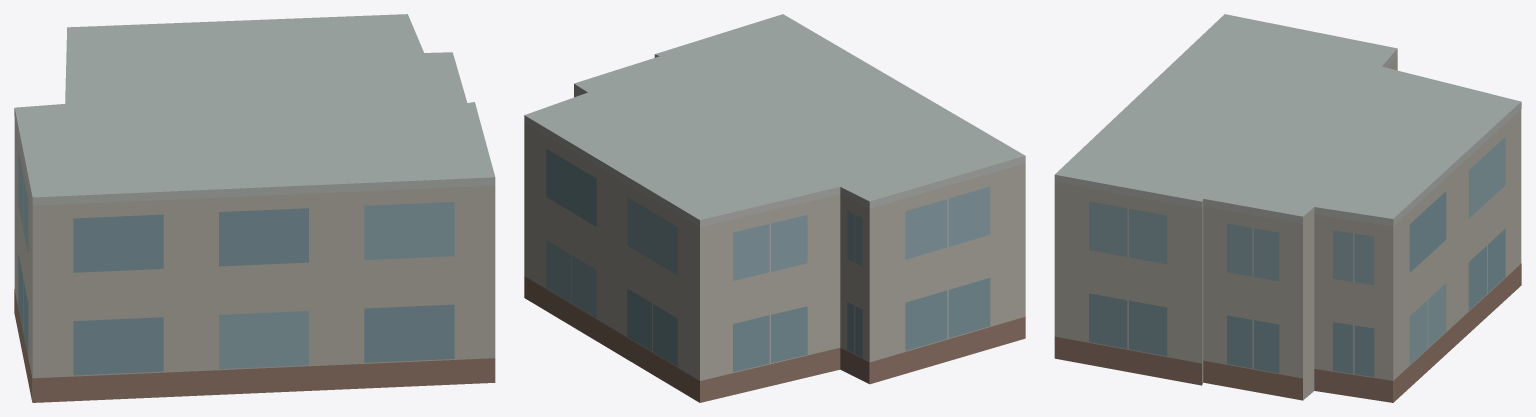
The model's file is survey-upis-32665984.glb.
3 renders of one model, left to right at view 1: azimuth 30°, elevation 25°; view 2: azimuth 150°, elevation 25°; view 3: azimuth 270°, elevation 25°, orthographic. The views are drawn at different scales.
Visible parts, largest first — view 1: survey-upis-32665984.tmp; view 2: survey-upis-32665984.tmp; view 3: survey-upis-32665984.tmp.
Boxes of the visible parts, x1,y1,x2,y2 form: survey-upis-32665984.tmp: (14,14,495,402); survey-upis-32665984.tmp: (524,14,1025,402); survey-upis-32665984.tmp: (1054,14,1521,402).
Size of the model in its own units: 14.6 by 6.1 by 14.05.
